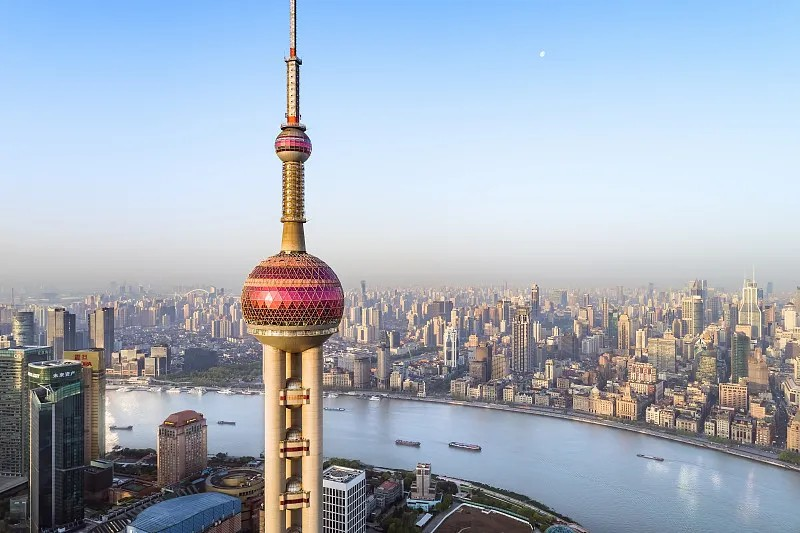Oriental: (242, 1, 344, 533)
